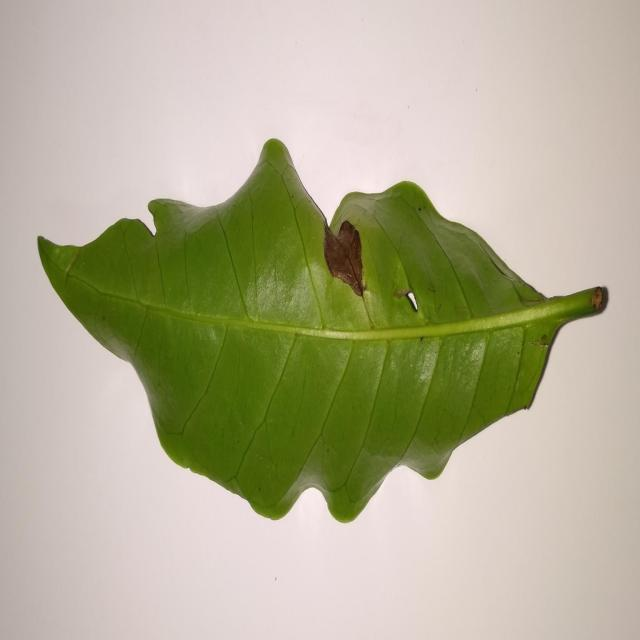Enfermedad-Antracnosis: (36, 139, 611, 526)
